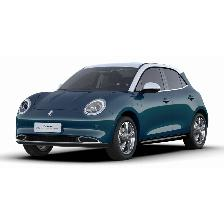EV: (17, 66, 210, 163)
